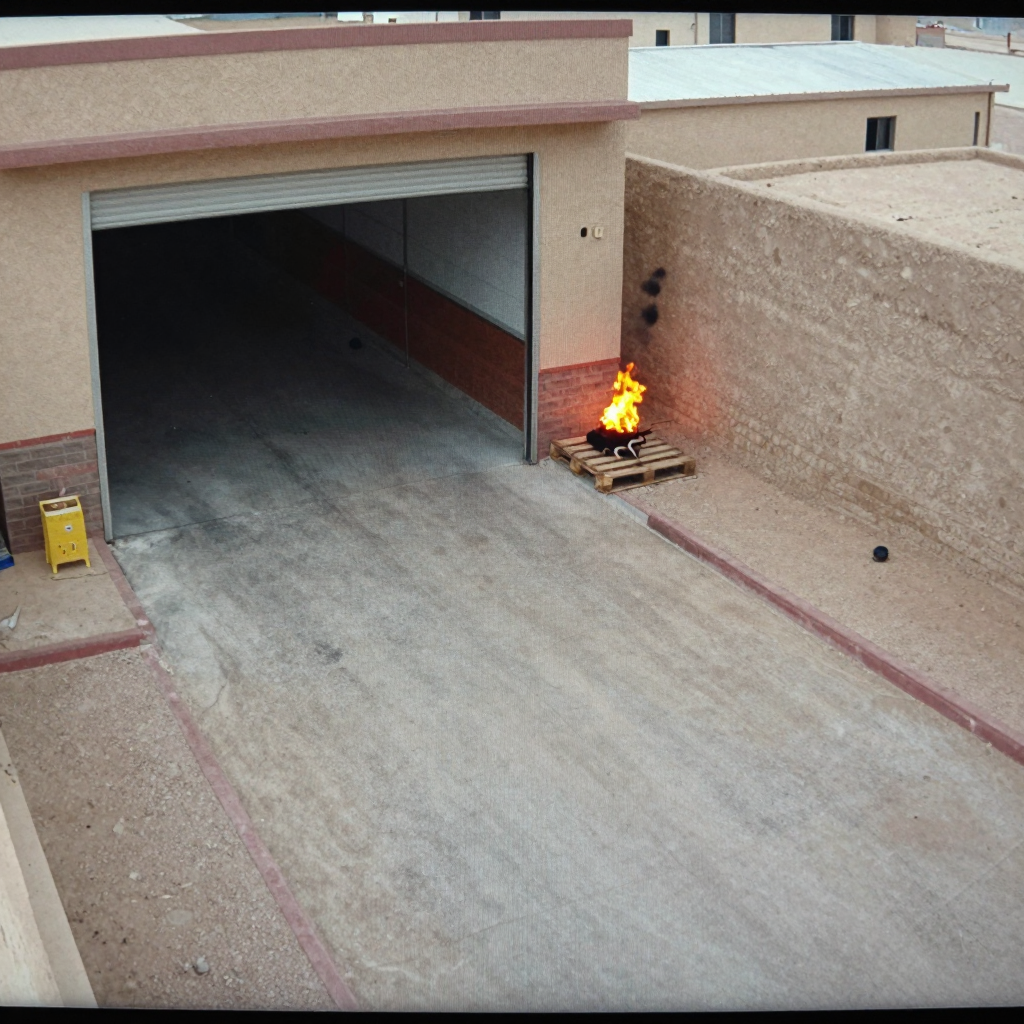Arson: (602, 364, 646, 435)
